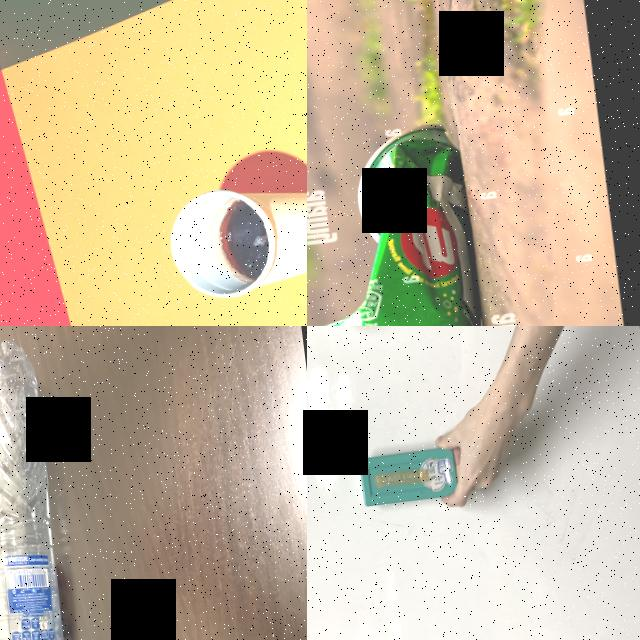bottle: (0, 326, 106, 640)
cup: (163, 168, 307, 304)
